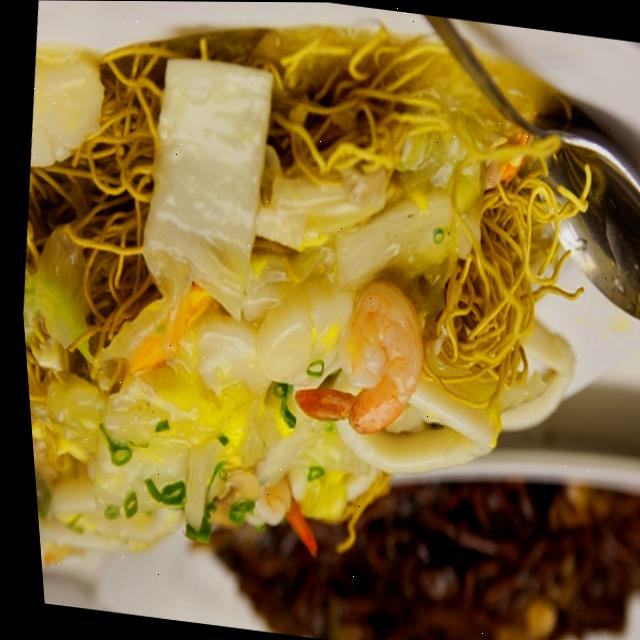面条主食: (20, 15, 565, 485)
